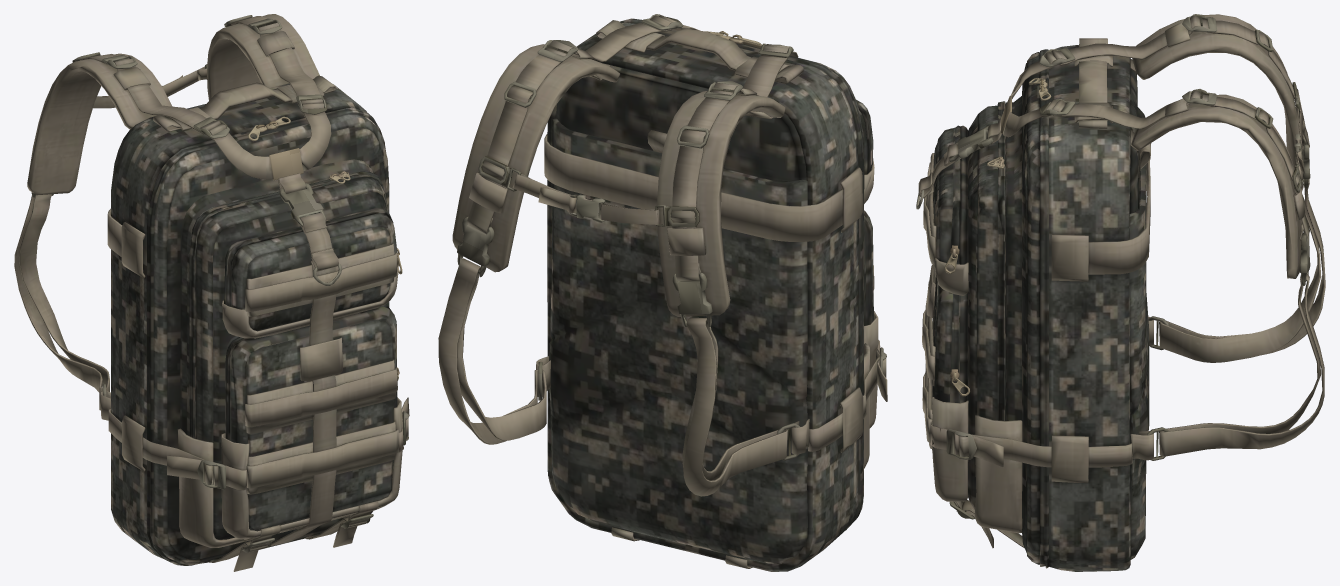
The model's file is military_backpack.ae3aade15b.glb.
3 views of the same model, side by side, from view 1: azimuth 30°, elevation 25°; view 2: azimuth 150°, elevation 25°; view 3: azimuth 270°, elevation 25° (orthographic). The views are drawn at different scales.
Parts seen in each view (by area): view 1: military_backpack_0, military_backpack_5, military_backpack_1, military_backpack_2; view 2: military_backpack_0, military_backpack_5, military_backpack_1; view 3: military_backpack_0, military_backpack_5, military_backpack_1, military_backpack_4.
Part boxes in pixels (box(x1,y1,x2,y2)): military_backpack_0: box(111, 83, 397, 565); military_backpack_5: box(14, 14, 409, 571); military_backpack_1: box(31, 15, 408, 552); military_backpack_2: box(269, 148, 303, 180); military_backpack_0: box(547, 18, 873, 571); military_backpack_5: box(438, 15, 887, 568); military_backpack_1: box(457, 14, 886, 460); military_backpack_0: box(932, 45, 1149, 571); military_backpack_5: box(918, 14, 1325, 548); military_backpack_1: box(916, 14, 1310, 519); military_backpack_4: box(944, 78, 1051, 396).
Bounding box in the file's own units: 0.3205 × 0.5598 × 0.4361.
Materials: 6 (6 with a texture image).
